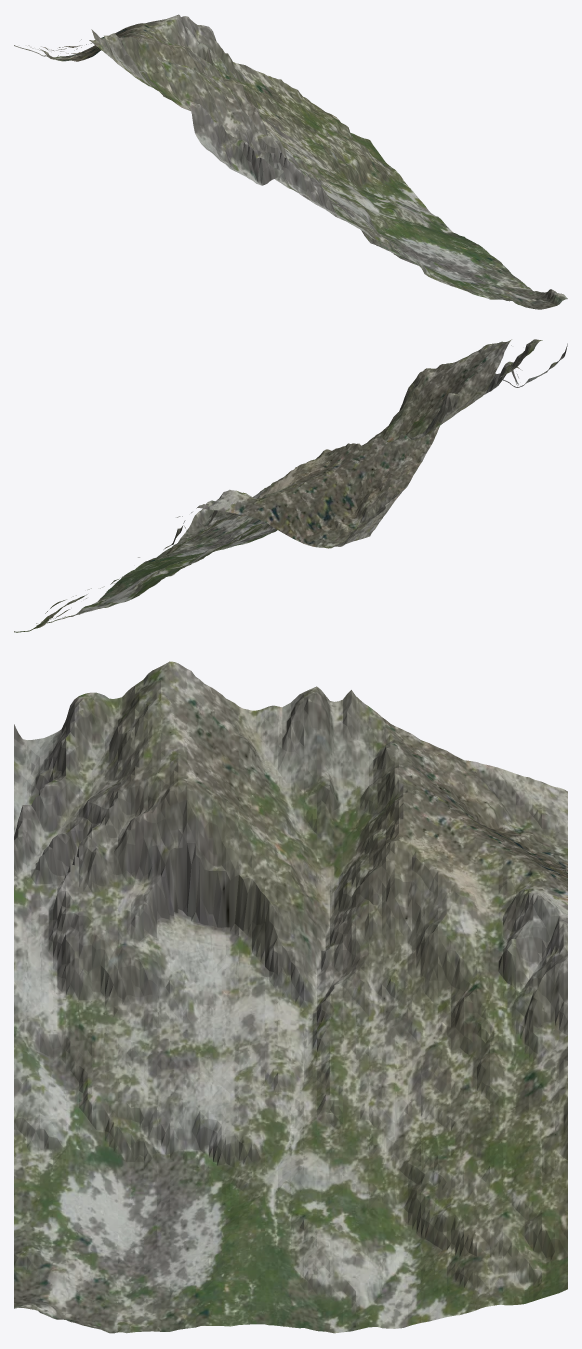
3 renders of one model, top to bottom at view 1: azimuth 30°, elevation 25°; view 2: azimuth 150°, elevation 25°; view 3: azimuth 270°, elevation 25°, orthographic. The views are drawn at different scales.
Size of the model in its own units: 500 by 412 by 481.
Materials: 1 (1 with a texture image).
